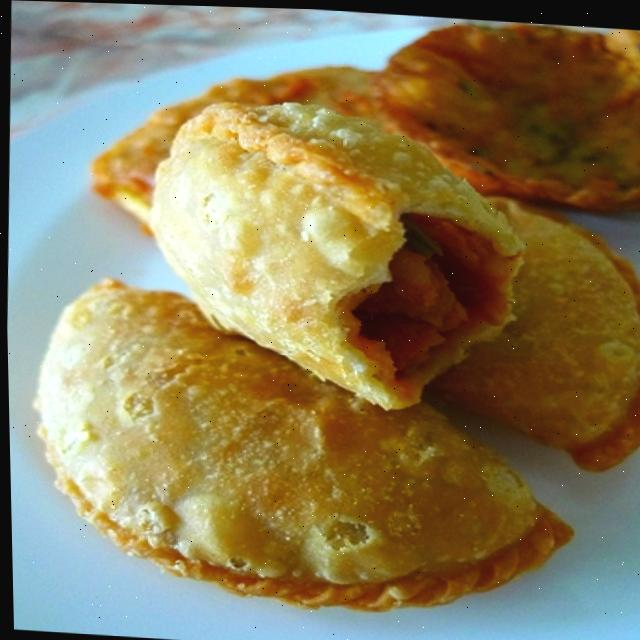炸货点心: (26, 30, 640, 639)
